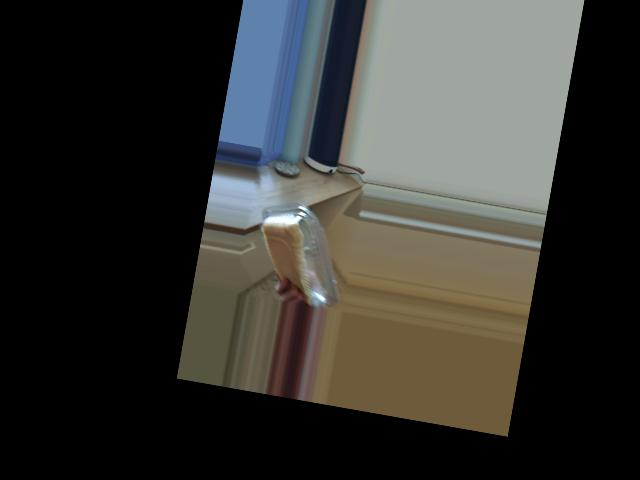cheese: (265, 209, 337, 273)
